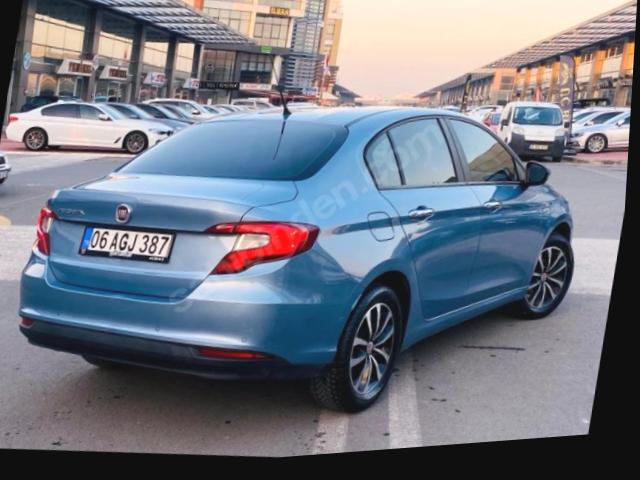plaka: (81, 227, 173, 261)
